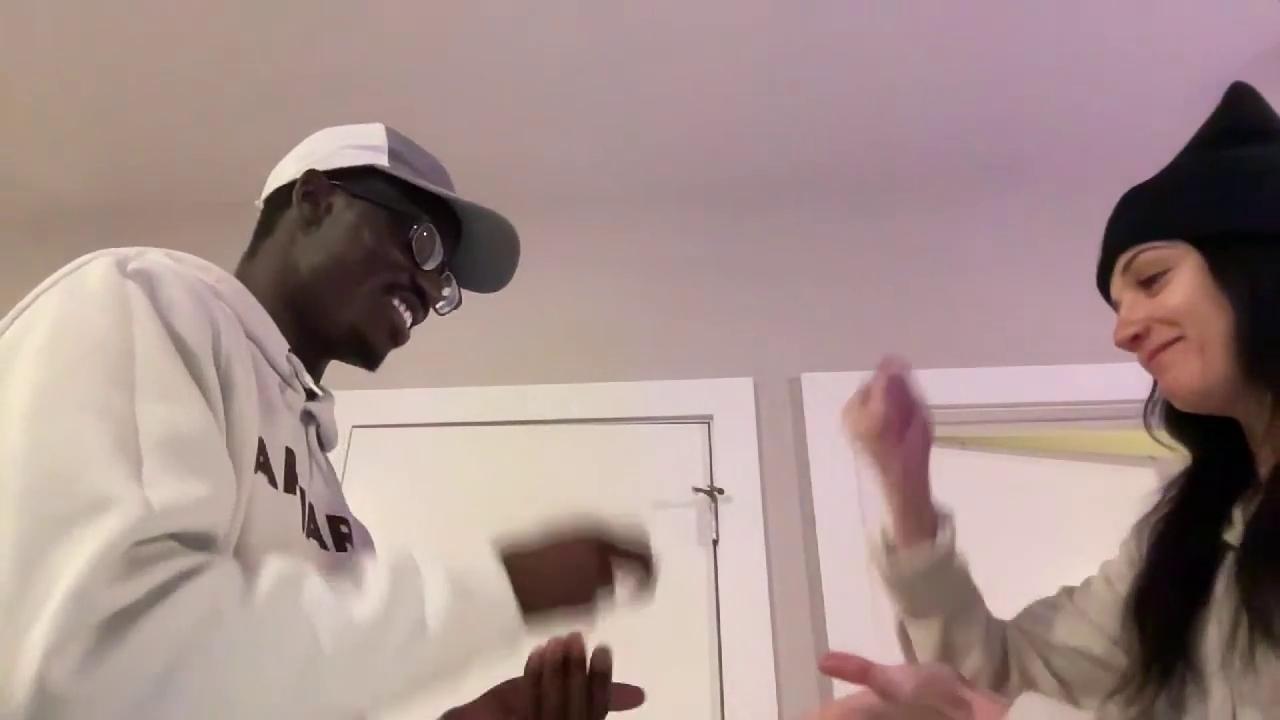Rock: (842, 358, 937, 473)
Scissors: (498, 523, 662, 631)
